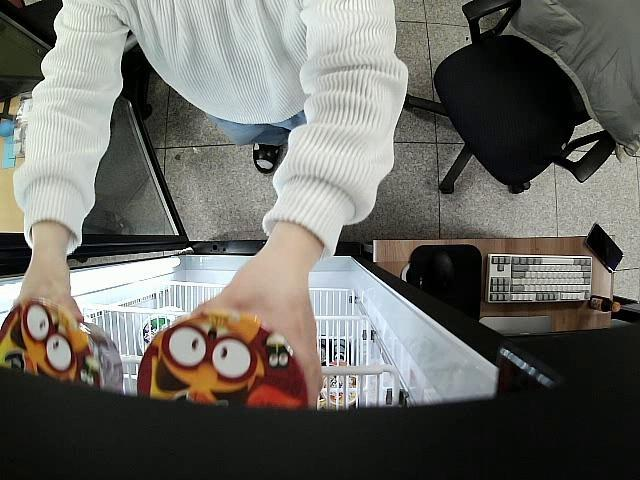05_nuguri_L: (137, 311, 310, 412), (0, 298, 123, 400)
